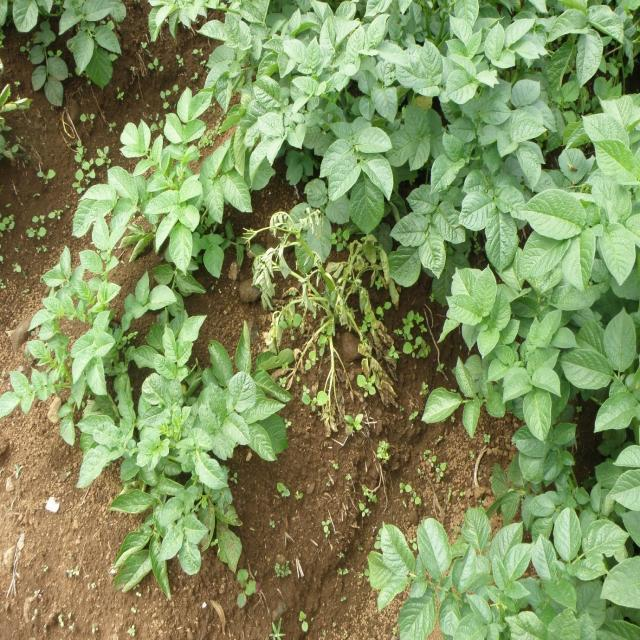Healthy Leaf: (524, 190, 587, 240), (600, 223, 636, 286), (604, 306, 637, 372), (486, 209, 520, 271), (416, 520, 452, 578), (594, 390, 640, 433), (592, 138, 636, 177), (380, 524, 413, 575), (577, 28, 604, 87), (328, 152, 362, 197), (554, 508, 578, 564), (220, 174, 255, 212), (169, 224, 194, 276), (516, 146, 544, 191), (445, 294, 482, 324), (230, 374, 256, 414), (530, 368, 564, 397), (474, 262, 492, 316), (512, 79, 542, 107), (511, 118, 548, 140), (478, 324, 499, 358), (78, 251, 105, 273), (155, 354, 178, 379)
